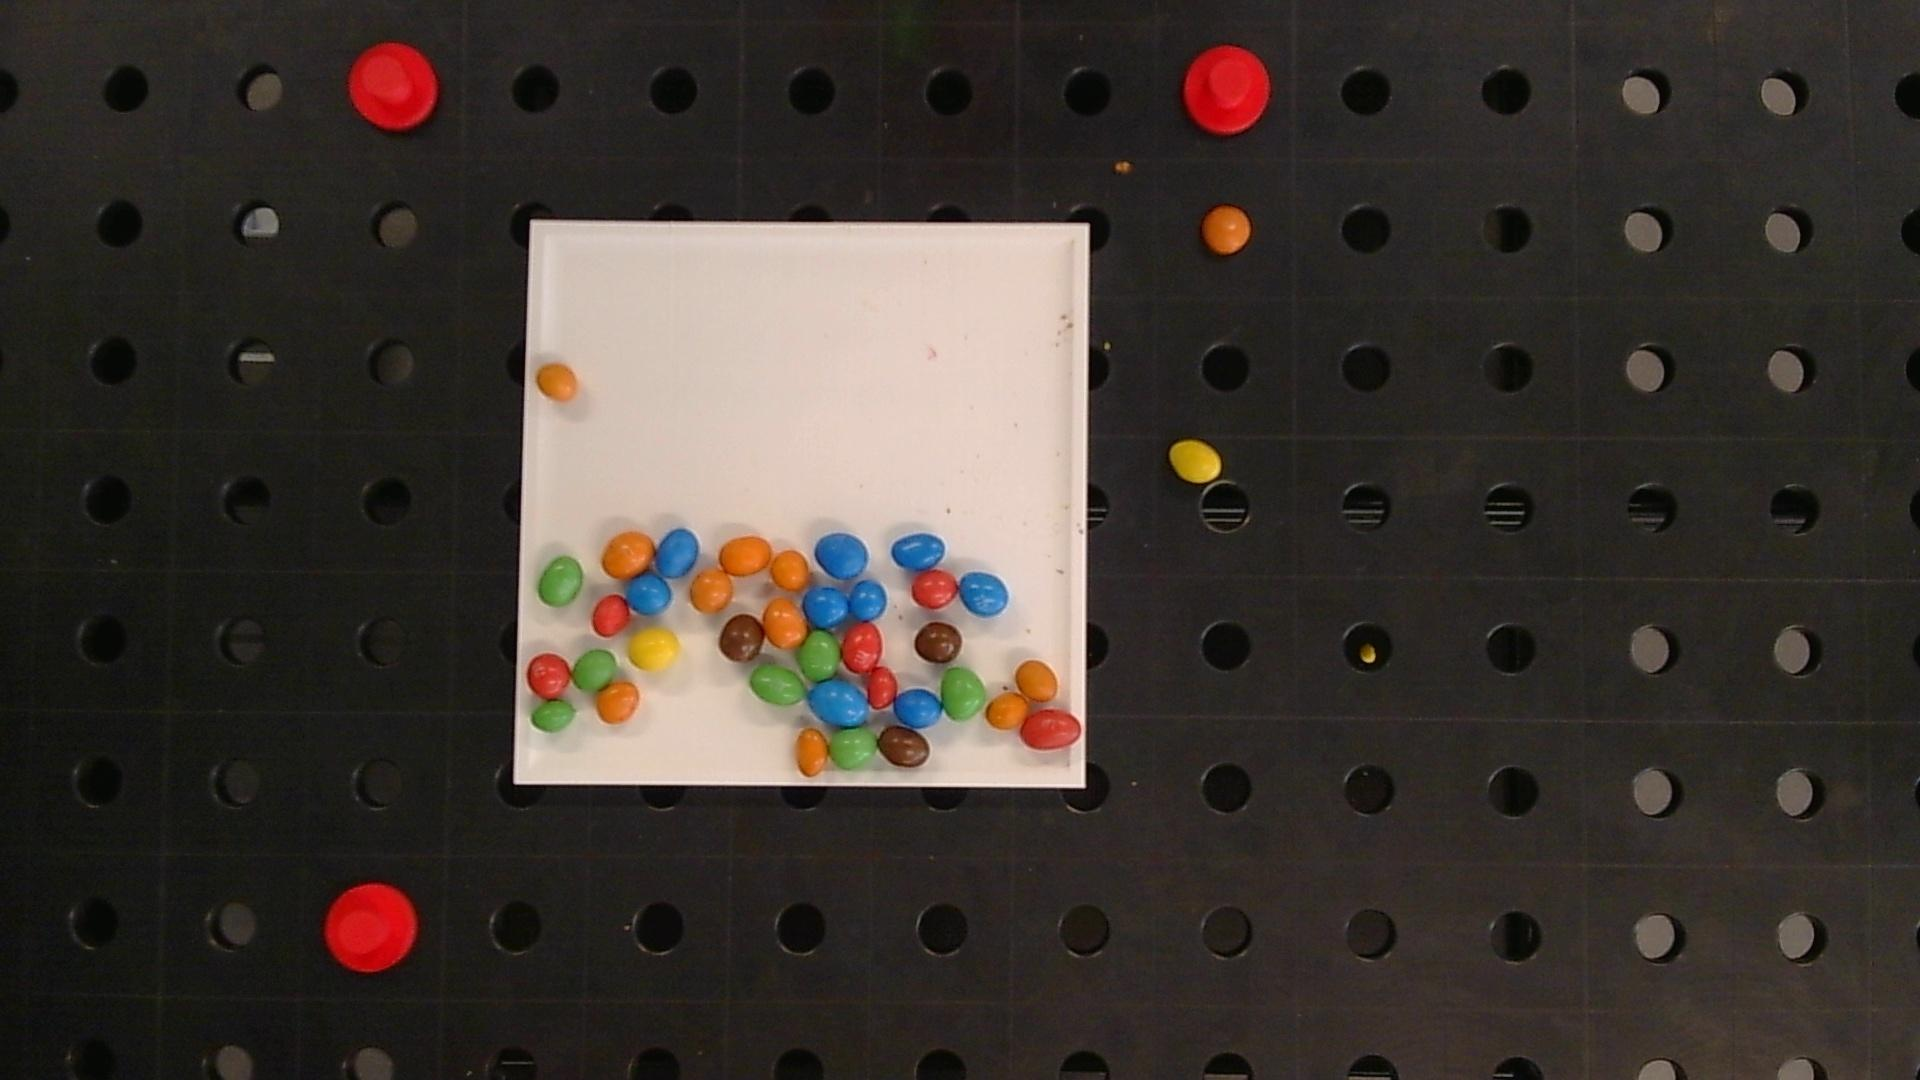blue: (808, 679, 869, 727), (815, 531, 869, 579), (960, 572, 1009, 616), (655, 529, 699, 578), (890, 533, 947, 570), (894, 688, 943, 728), (803, 585, 848, 628), (628, 572, 671, 615), (849, 580, 887, 620)
brown: (720, 613, 765, 662), (878, 725, 930, 767), (914, 622, 963, 663)
green: (942, 667, 986, 721), (749, 665, 807, 705), (538, 556, 583, 605), (829, 728, 878, 770), (799, 630, 840, 680), (574, 650, 616, 691), (530, 700, 576, 733)
orange: (601, 530, 655, 579), (1203, 206, 1250, 255), (719, 535, 773, 575), (764, 599, 807, 647), (596, 680, 640, 724), (691, 568, 733, 612), (1015, 659, 1059, 702), (796, 728, 829, 777), (535, 364, 578, 401), (771, 550, 808, 591), (986, 694, 1029, 729)
red: (1019, 711, 1081, 749), (526, 653, 571, 699), (843, 622, 882, 673), (911, 571, 959, 609), (591, 595, 630, 637), (866, 666, 898, 708)
yellow: (1167, 440, 1222, 483), (628, 628, 680, 671)
